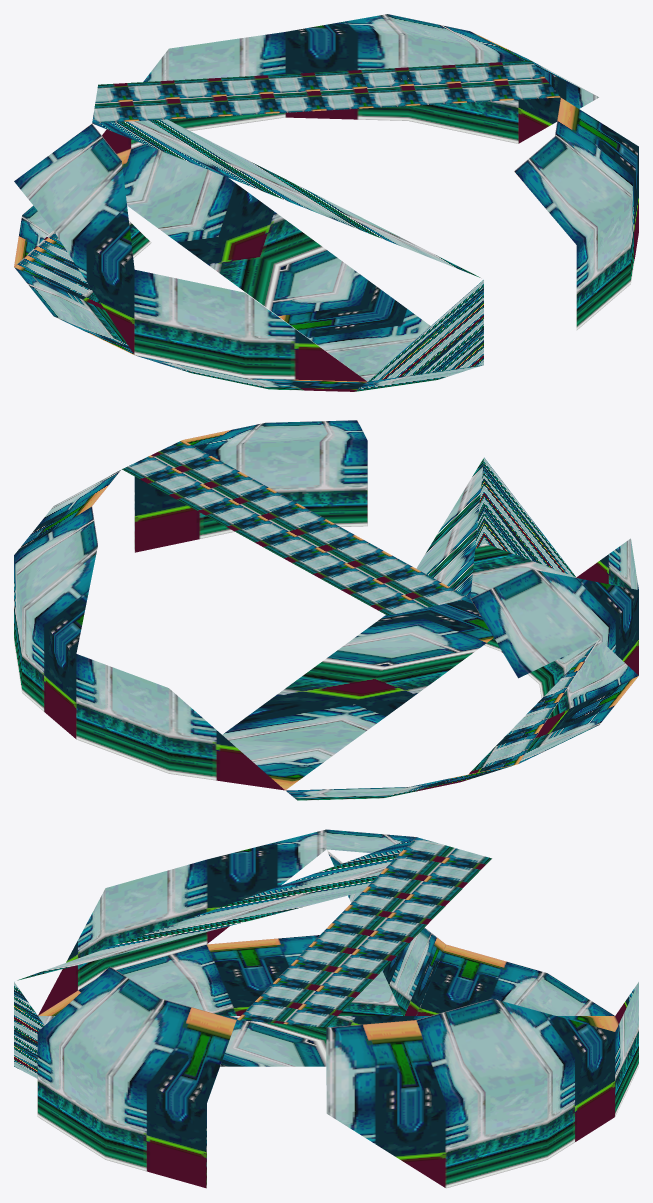
The model's file is sky-visual-lobby.obj.
3 views of the same model, one above another, from view 1: azimuth 30°, elevation 25°; view 2: azimuth 150°, elevation 25°; view 3: azimuth 270°, elevation 25° (orthographic).
Visible parts, largest first — view 1: mesh_sky_0; view 2: mesh_sky_0; view 3: mesh_sky_0.
Part boxes in pixels (<box>): mesh_sky_0: <box>14,14,638,391</box>; mesh_sky_0: <box>14,420,638,800</box>; mesh_sky_0: <box>14,829,638,1188</box>.
Bounding box in the file's own units: 16000 × 5297 × 16000.
Materials: 1 (1 with a texture image).
